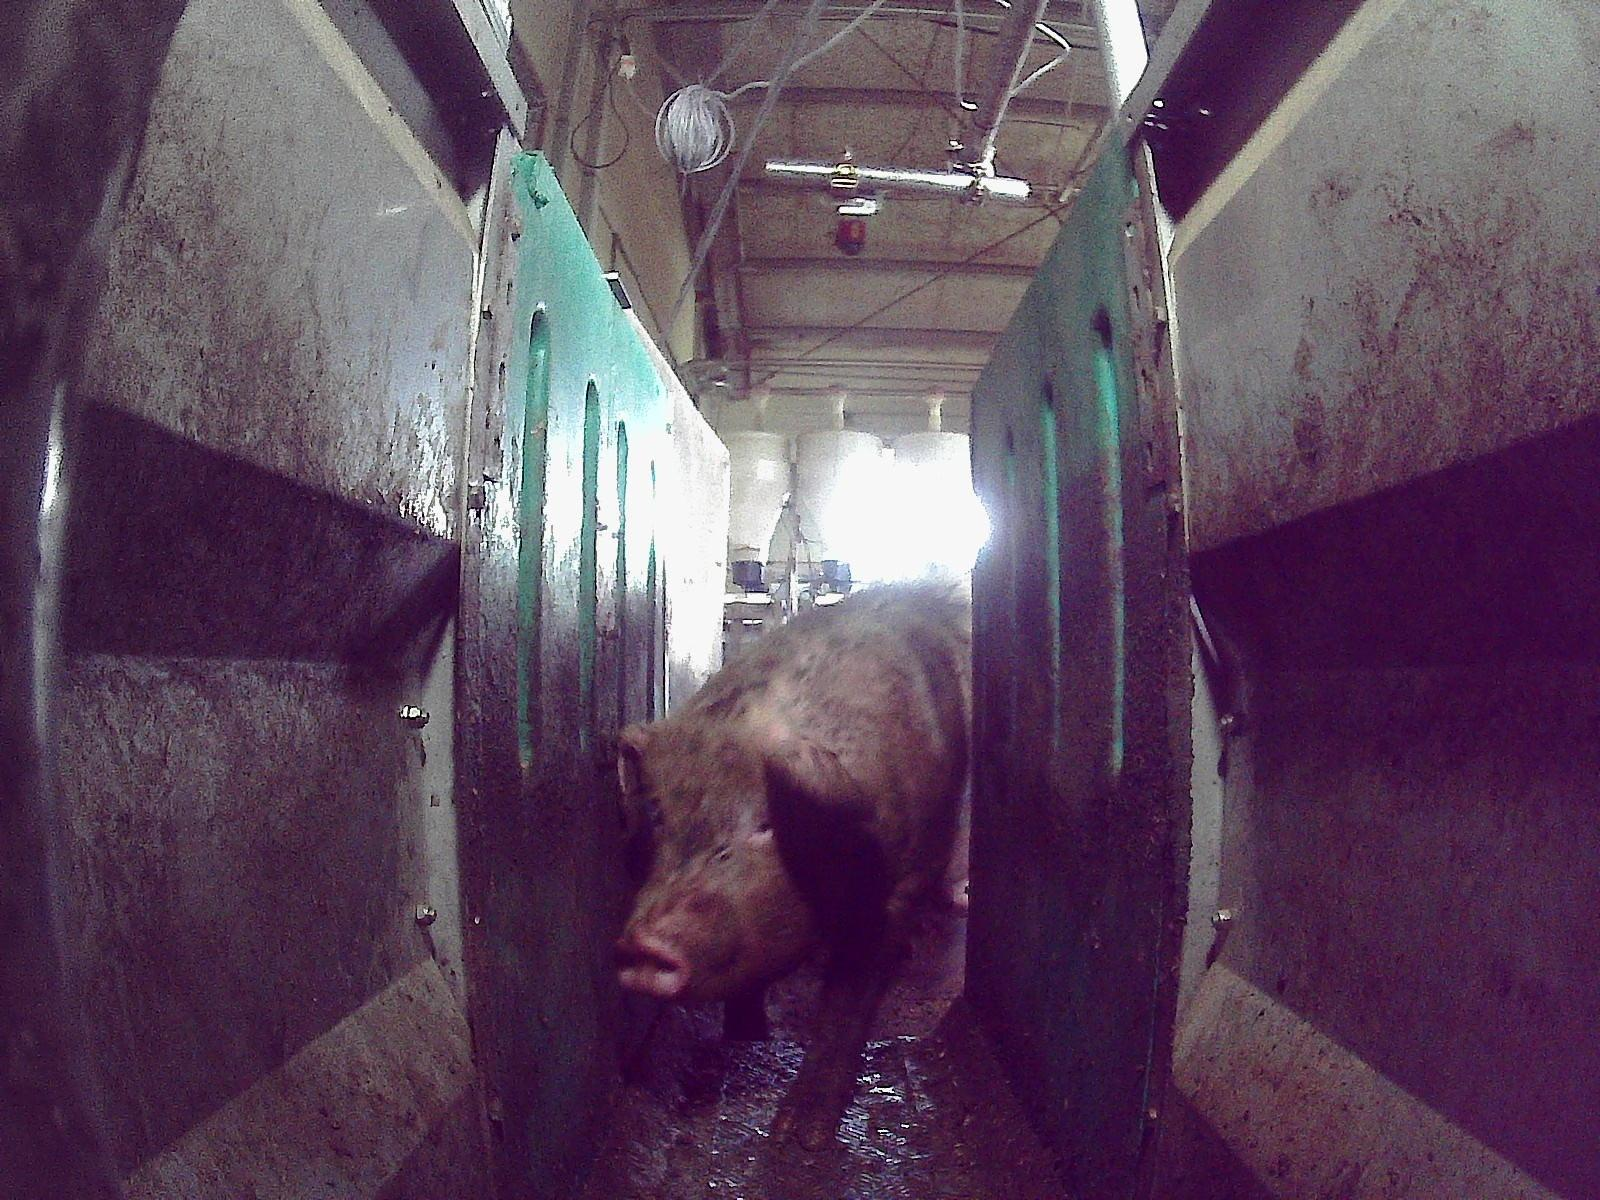Face: (609, 719, 812, 1006)
